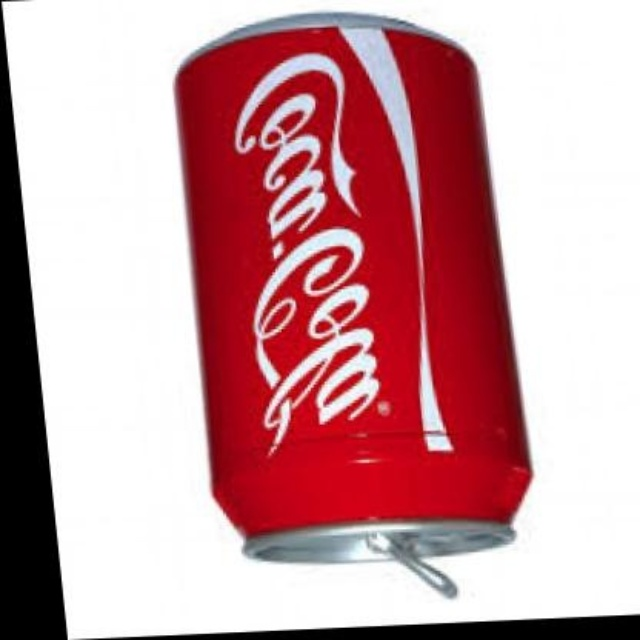trash: (175, 12, 529, 595)
